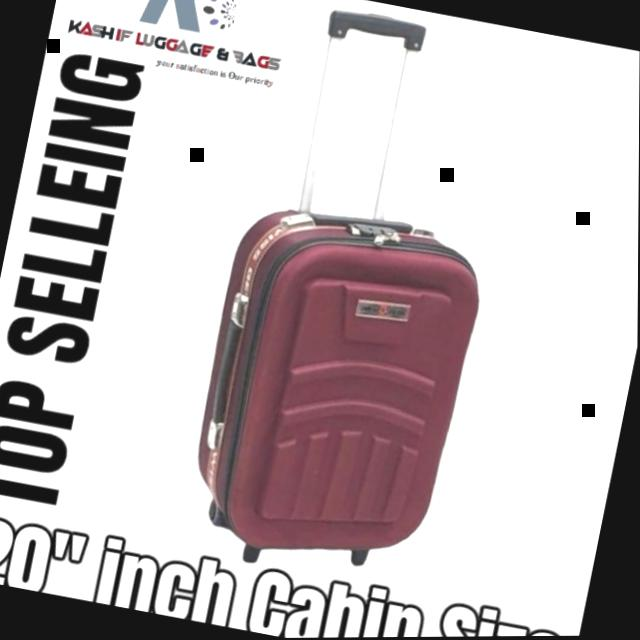luggage: (171, 183, 496, 588)
